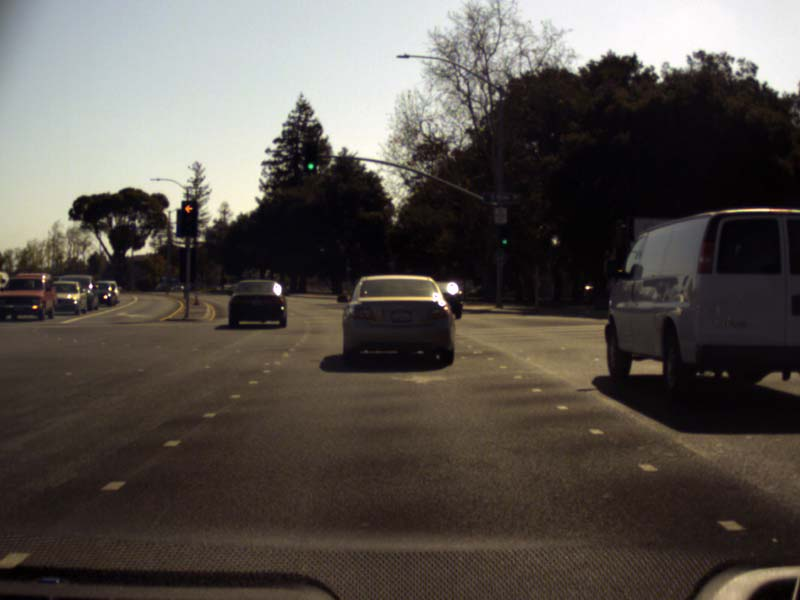Green: (305, 142, 315, 171), (499, 224, 508, 246)
Red: (182, 201, 196, 237)
